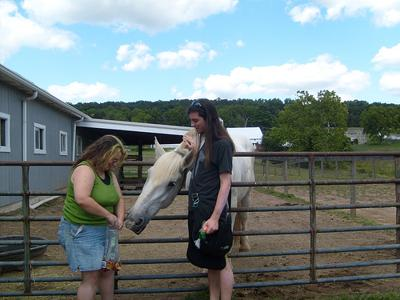person: (59, 134, 127, 300)
